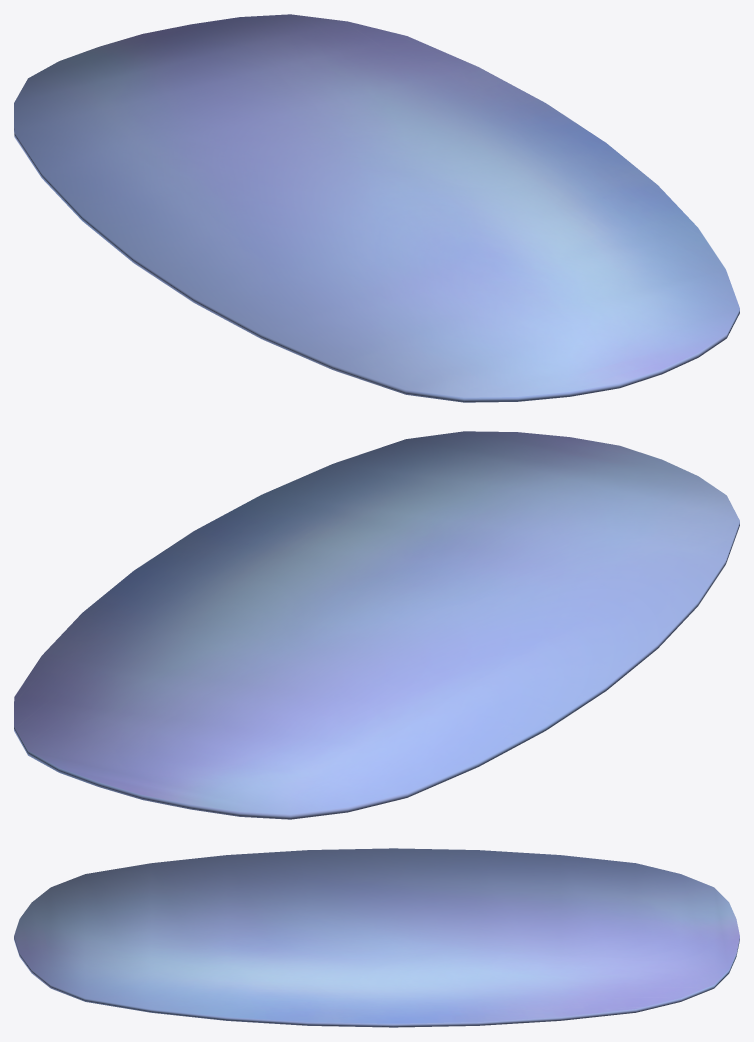
File: portal.fbx
The picture shows the model from 3 angles, top to bottom: view 1: azimuth 30°, elevation 25°; view 2: azimuth 150°, elevation 25°; view 3: azimuth 270°, elevation 25°; orthographic projection. The views are drawn at different scales.
Parts seen in each view (by area): view 1: Cylinder; view 2: Cylinder; view 3: Cylinder.
Part boxes in pixels (x1=…): Cylinder: x1=14, y1=14, x2=739, y2=402; Cylinder: x1=14, y1=431, x2=739, y2=819; Cylinder: x1=14, y1=848, x2=739, y2=1027.
Bounding box in the file's own units: 3 × 0.03 × 5.25.
Materials: 1 (1 with a texture image).
